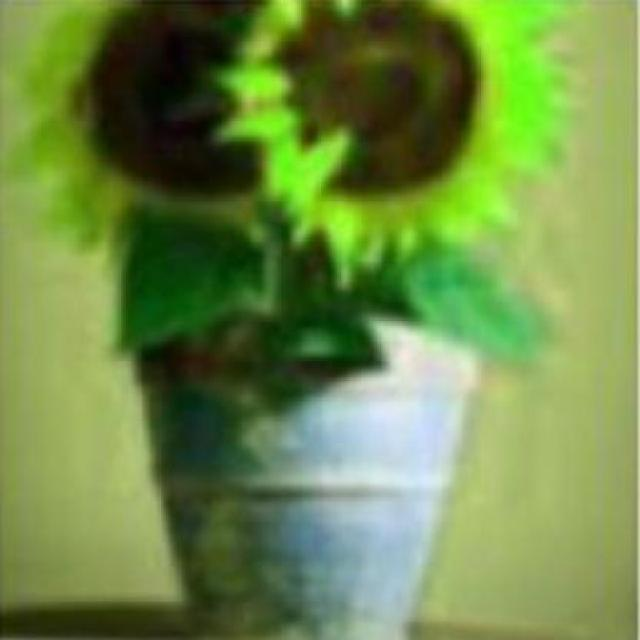sunflower: (211, 0, 572, 296), (1, 0, 268, 266)
